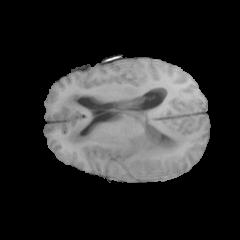glioma: (61, 91, 185, 159)
